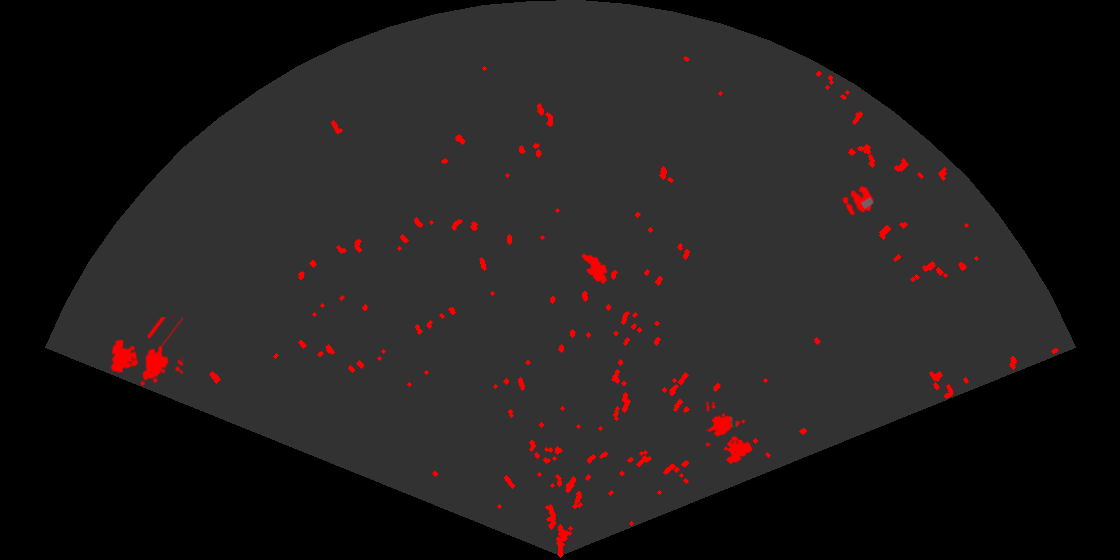AUV: (580, 252, 609, 286)
ball: (841, 184, 876, 217)
cage: (109, 317, 183, 387), (706, 402, 754, 466)
